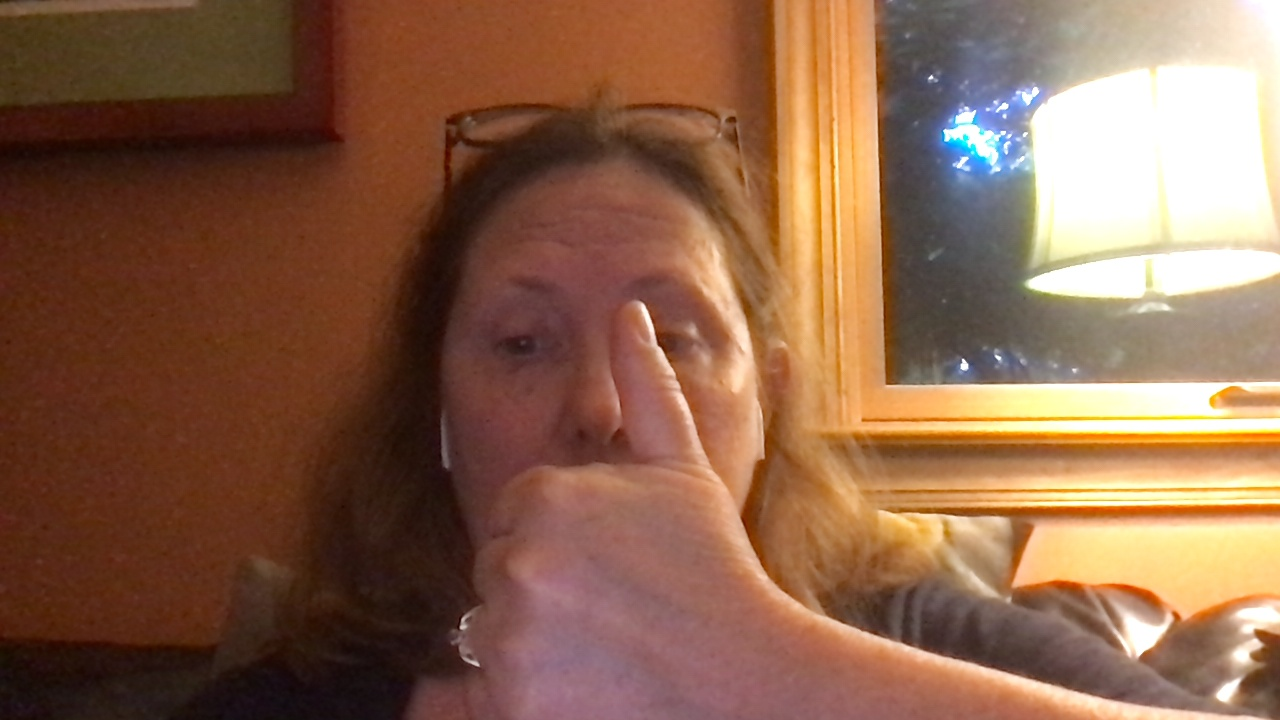thumbsup: (457, 296, 779, 720)
